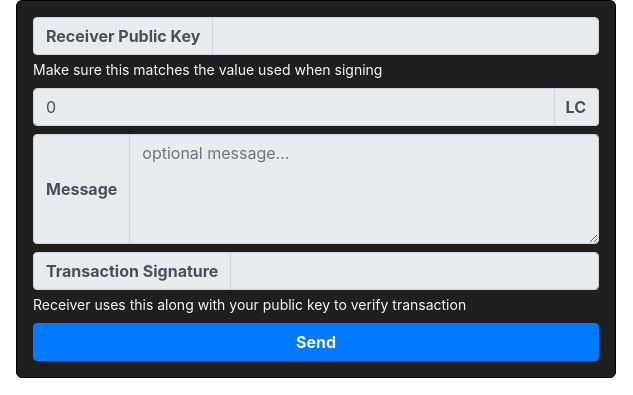
Test case: send button state › is disabled when sent
This screenshot has width=633, height=395.
What coordinates should you click on to do the following:
click the button with aria-label "Send Button"
I would click on:
 (316, 342)
Its box is x1=33 y1=323 x2=599 y2=361.
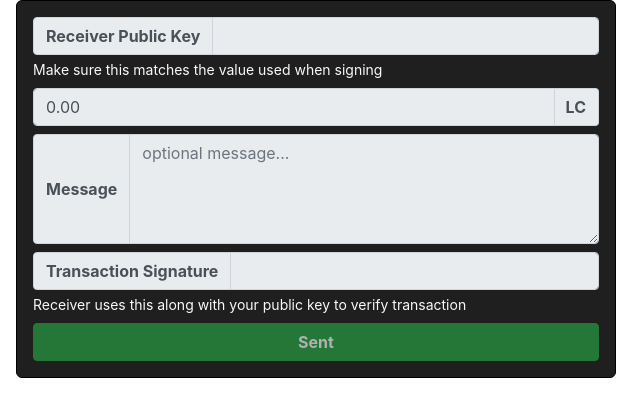
Check: the button with aria-label "Send Button" is disabled, box x1=33 y1=323 x2=599 y2=361
Check: the button with aria-label "Send Button" reads "Sent", box x1=33 y1=323 x2=599 y2=361
